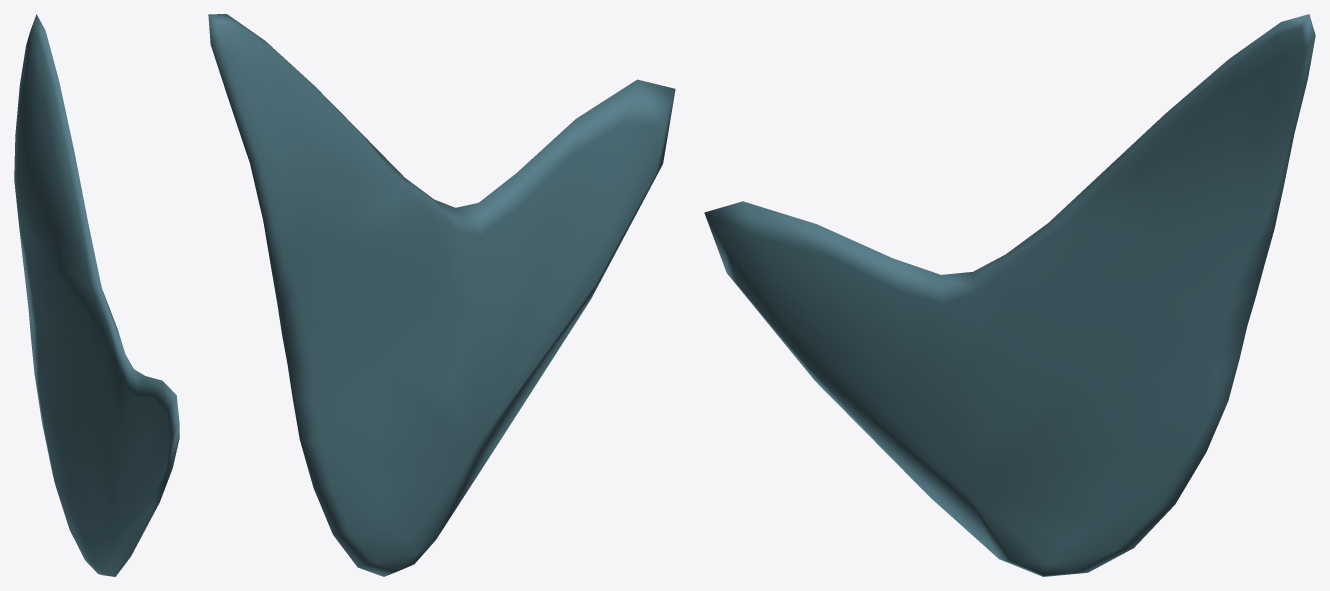
The model's file is Medial_pterygoid_mandibular_angle_left.glb.
The picture shows the model from 3 angles, left to right: view 1: azimuth 30°, elevation 25°; view 2: azimuth 150°, elevation 25°; view 3: azimuth 270°, elevation 25°; orthographic projection. The views are drawn at different scales.
Visible parts, largest first — view 1: Medial_pterygoid_muscle_on_the_mandibular_angle.l_Generated_; view 2: Medial_pterygoid_muscle_on_the_mandibular_angle.l_Generated_; view 3: Medial_pterygoid_muscle_on_the_mandibular_angle.l_Generated_.
Part boxes in pixels (x1,y1,x2,y2): Medial_pterygoid_muscle_on_the_mandibular_angle.l_Generated_: (14,14,179,576); Medial_pterygoid_muscle_on_the_mandibular_angle.l_Generated_: (208,14,675,576); Medial_pterygoid_muscle_on_the_mandibular_angle.l_Generated_: (704,14,1315,576).
Bounding box in the file's own units: 0.00406 × 0.0182 × 0.0172.
